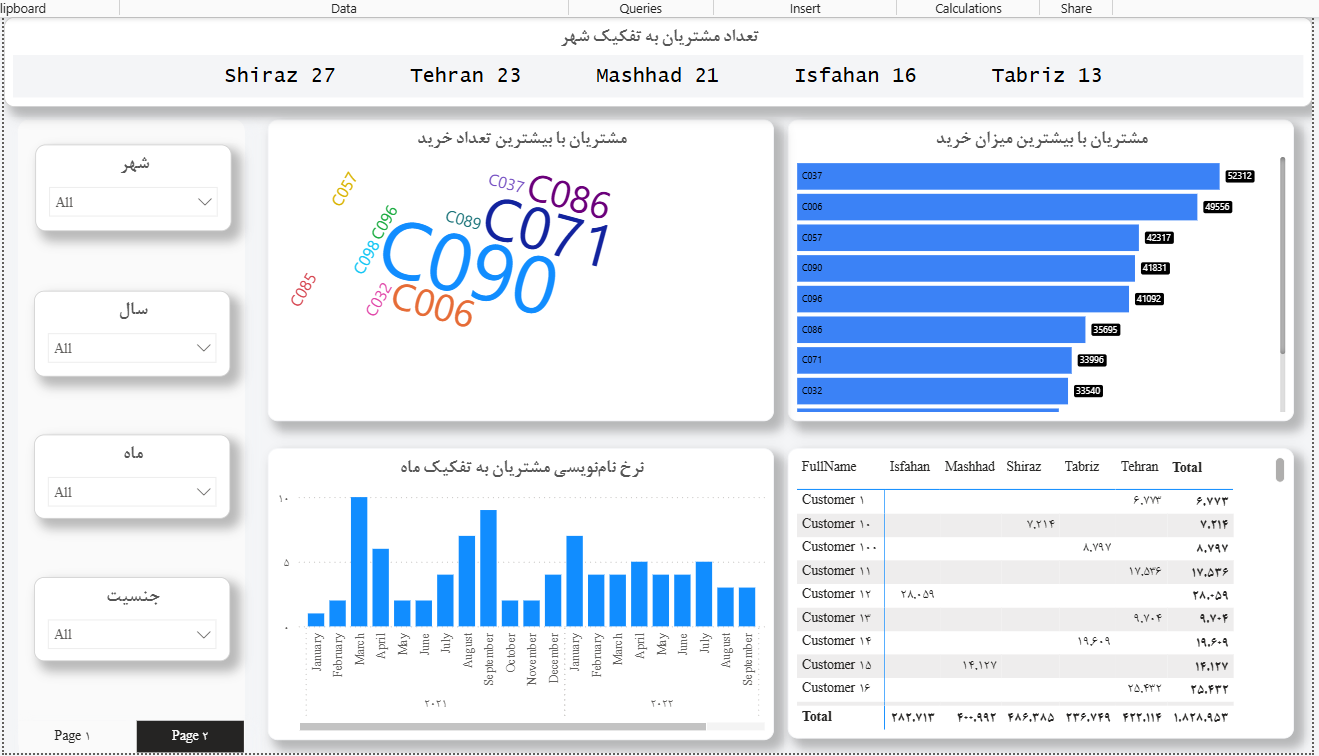

Layout of this report page (visuals, bound fields, positions):
{"tool":"powerbi","page":{"name":"Page 2","canvas":[1280,720],"ordinal":1},"visuals":[{"type":"BarChartF5983CEA542C47889C9DE852B430DE5F","title":"مشتریان با بیشترین میزان خرید","fields":{"category":["FactOrders.CustomerID"],"measure":["Sum(FactOrders.TotalAmount)"]},"box":[767.1,100.2,495.4,295],"z":0},{"type":"WordCloud1447959067750","title":"مشتریان با  بیشترین تعداد خرید","fields":{"Category":["FactOrders.CustomerID"],"Values":["CountNonNull(FactOrders.OrderID)"]},"box":[258,100.2,495.4,295],"z":1000},{"type":"shape","box":[13.7,99.7,222.3,620.2],"z":2000},{"type":"slicer","title":"شهر","fields":{"Values":["DimCustomers.City"]},"box":[30.2,124.9,192.1,85.1],"z":3000},{"type":"slicer","title":"سال ","fields":{"Values":["FactOrders.OrderDate.Variation.Date Hierarchy.Year"]},"box":[28.8,267.6,192.1,83.7],"z":4000},{"type":"slicer","title":"ماه","fields":{"Values":["FactOrders.OrderDate.Variation.Date Hierarchy.Month"]},"box":[28.8,408.9,192.1,82.3],"z":5000},{"type":"columnChart","title":"نرخ نامنویسی مشتریان به تفکیک ماه","fields":{"Y":["CountNonNull(DimCustomers.FullName)"],"Category":["DimCustomers.SignUpDate.Variation.Date Hierarchy.Year","DimCustomers.SignUpDate.Variation.Date Hierarchy.Month"]},"box":[258,421.3,495.4,285.4],"z":6000},{"type":"pageNavigator","box":[15.1,688.9,220.9,31.6],"z":7000},{"type":"pivotTable","fields":{"Rows":["DimCustomers.FullName"],"Values":["Sum(FactOrderDetails.TotalAmount)"],"Columns":["DimCustomers.City"]},"box":[767.1,421.3,495.4,284],"z":8000},{"type":"ScrollingTextVisual1448795304508","title":"تعداد مشتریان به تفکیک شهر","fields":{"Category":["DimCustomers.City"],"Measure Absolute":["CountNonNull(DimCustomers.CustomerID)"]},"box":[0,0,1280.3,87.8],"z":9000},{"type":"slicer","title":"جنسیت","fields":{"Values":["DimCustomers.Gender"]},"box":[28.8,547.5,192.1,82.3],"z":10000}]}

Visuals, with their boxes on the page's 1280x720 design canvas (x1, y1, x2, y2). These are canvas units, not pixel positions in the 1319x756 screenshot, which may show the page scaled, cropped or inside an application window:
"مشتریان با بیشترین میزان خرید" BarChartF5983CEA542C47889C9DE852B430DE5F: x1=767, y1=100, x2=1262, y2=395
"مشتریان با  بیشترین تعداد خرید" WordCloud1447959067750: x1=258, y1=100, x2=753, y2=395
shape: x1=14, y1=100, x2=236, y2=720
"شهر" slicer: x1=30, y1=125, x2=222, y2=210
"سال " slicer: x1=29, y1=268, x2=221, y2=351
"ماه" slicer: x1=29, y1=409, x2=221, y2=491
"نرخ نامنویسی مشتریان به تفکیک ماه" columnChart: x1=258, y1=421, x2=753, y2=707
pageNavigator: x1=15, y1=689, x2=236, y2=720
pivotTable - DimCustomers.FullName x Sum(FactOrderDetails.TotalAmount): x1=767, y1=421, x2=1262, y2=705
"تعداد مشتریان به تفکیک شهر" ScrollingTextVisual1448795304508: x1=0, y1=0, x2=1280, y2=88
"جنسیت" slicer: x1=29, y1=548, x2=221, y2=630
